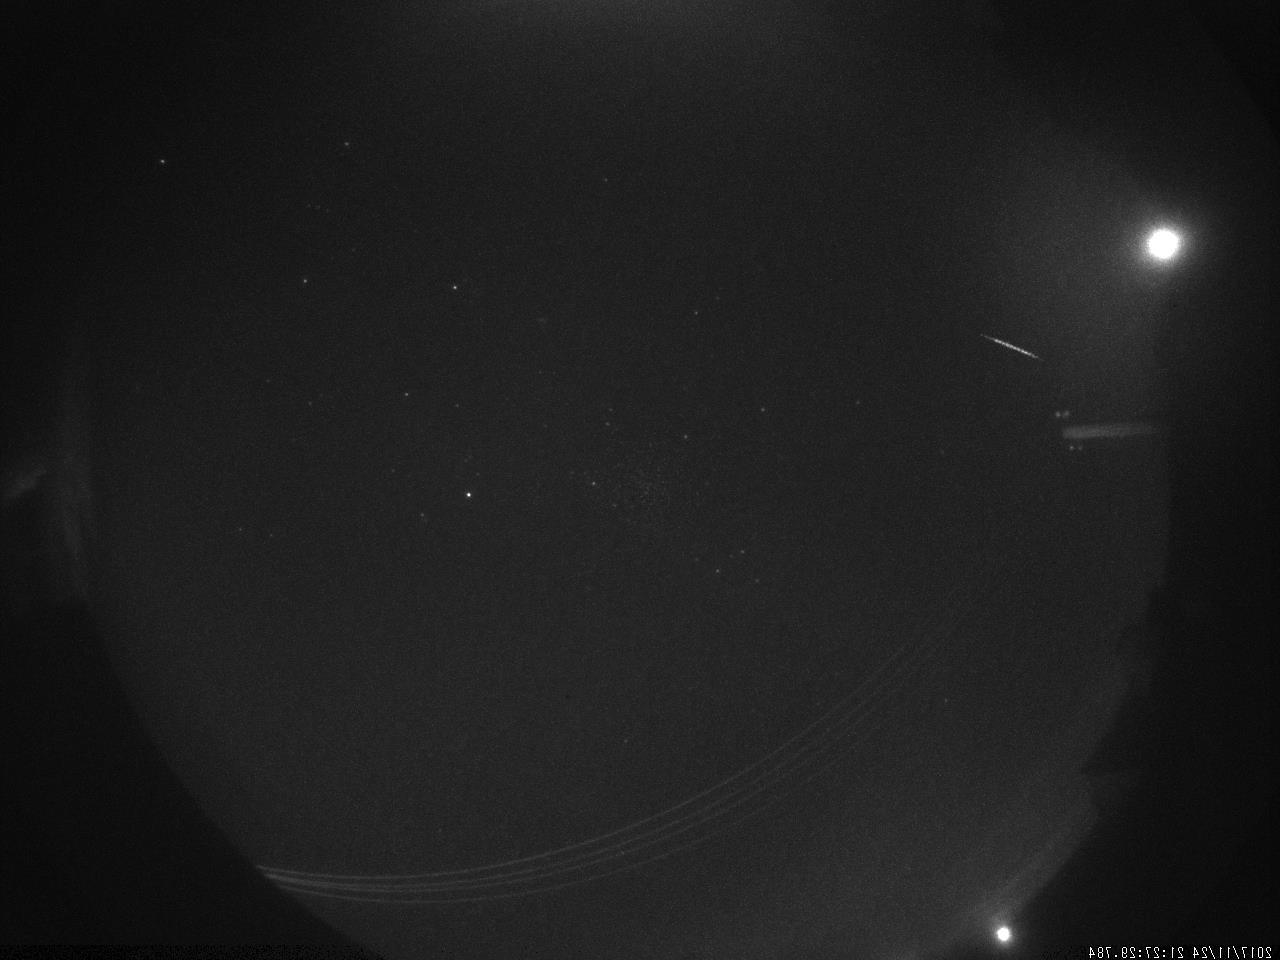meteor: (970, 330, 1050, 363)
